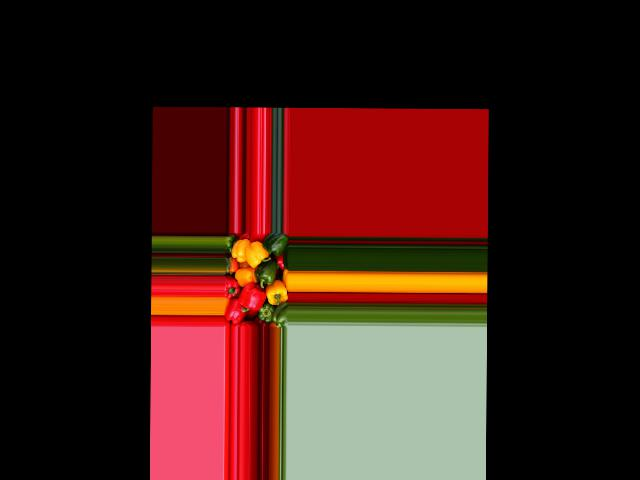bell_pepper: (224, 235, 236, 256)
